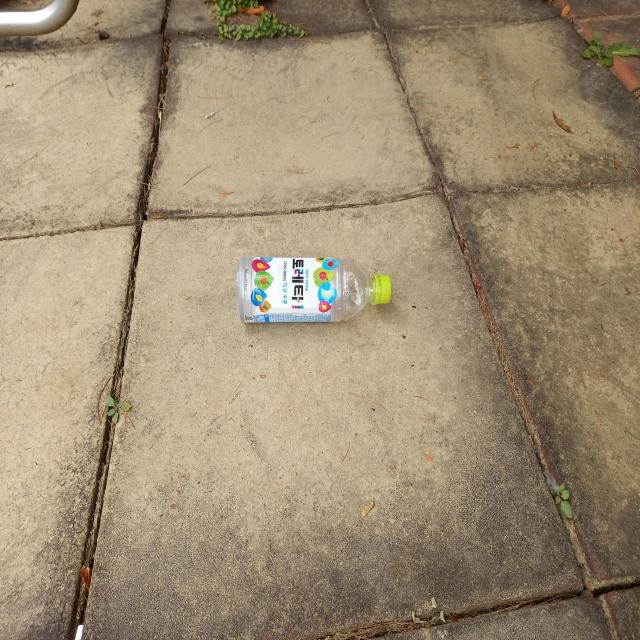plastic: (236, 256, 392, 323)
